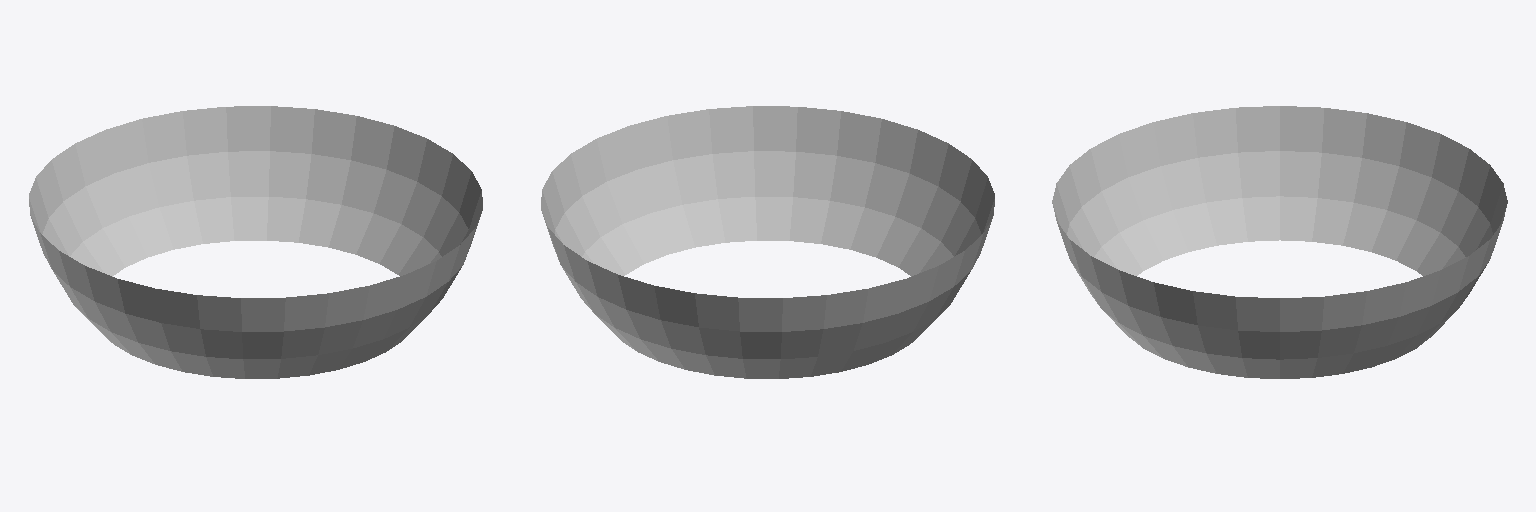
File: test-new-flat.obj
The picture shows the model from 3 angles: view 1: azimuth 30°, elevation 25°; view 2: azimuth 150°, elevation 25°; view 3: azimuth 270°, elevation 25°; orthographic projection.
Parts seen in each view (by area): view 1: Sphere; view 2: Sphere; view 3: Sphere.
Part boxes in pixels (x1,y1,x2,y2): Sphere: (29,106,482,378); Sphere: (541,106,994,378); Sphere: (1052,106,1507,378).
Size of the model in its own units: 1.96 by 0.512 by 1.96.